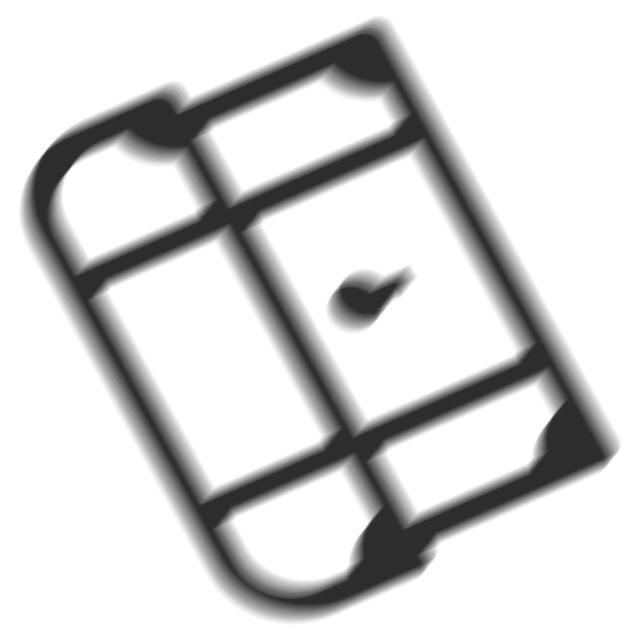treasure_box: (9, 9, 627, 633)
